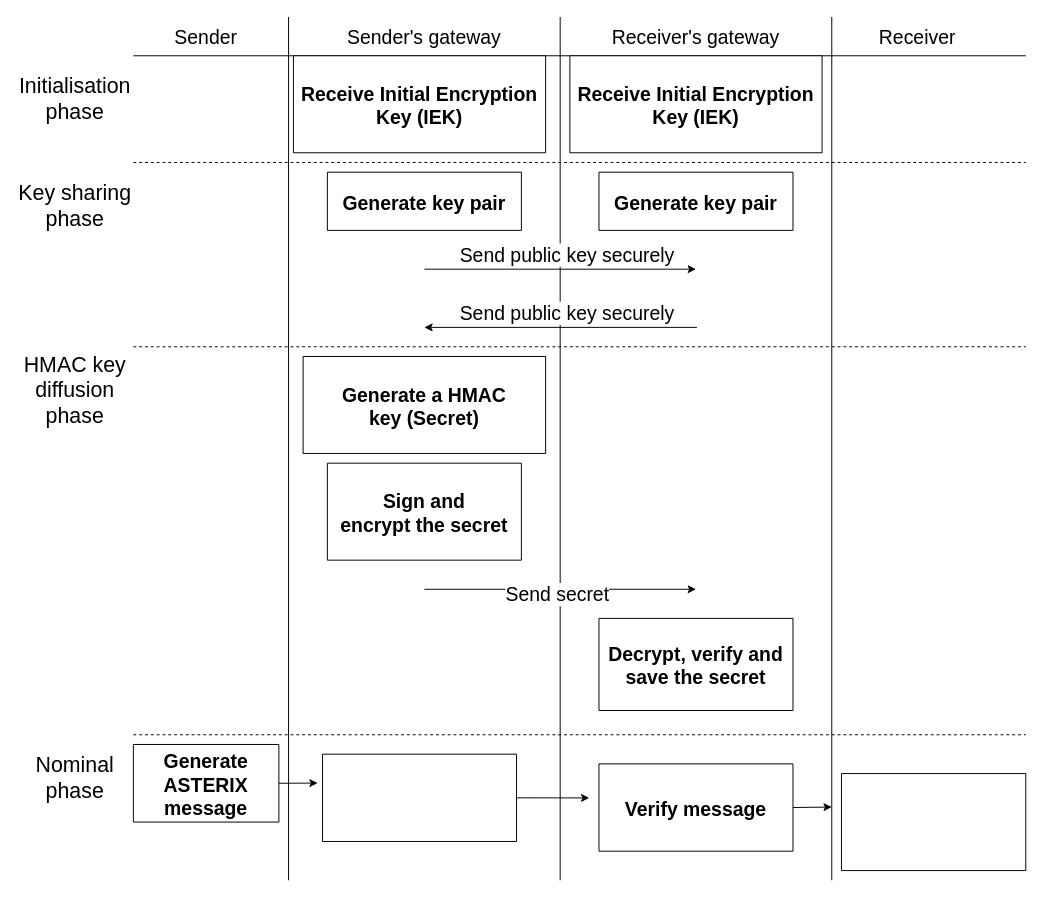
This 1044x898 diagram has some shape labels left out. The centre of each missing label's shape, as x and y in pixels:
Normal use of an ASTERIX message: point 933,822
Sign the ASTERIX message: point 419,797
